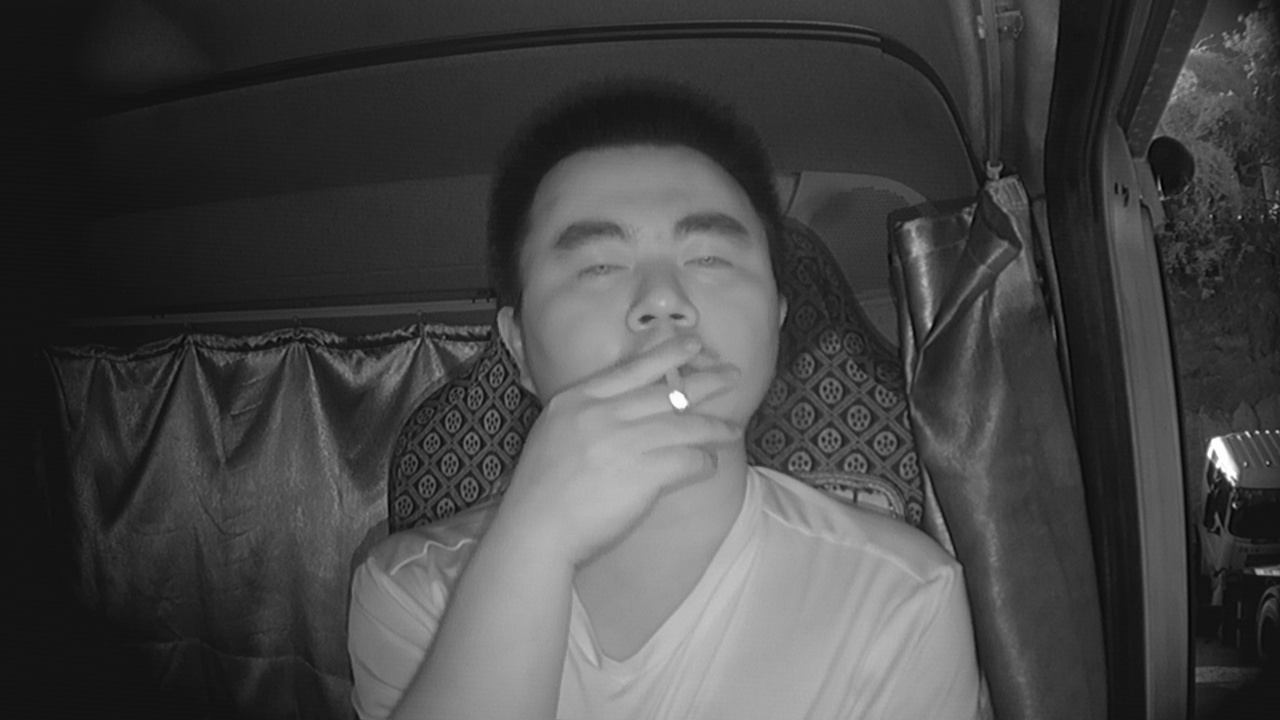hand: (590, 341, 740, 493)
